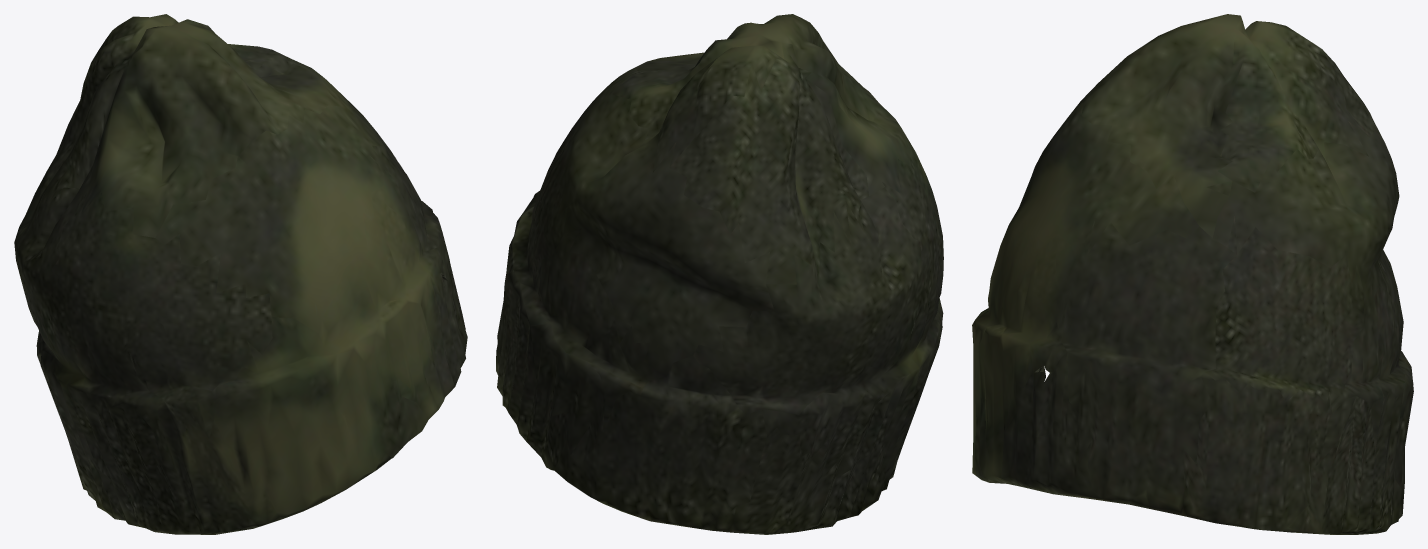
Rendered from beanie.6d1687ce4a.glb.
3 views of the same model, side by side, from view 1: azimuth 30°, elevation 25°; view 2: azimuth 150°, elevation 25°; view 3: azimuth 270°, elevation 25° (orthographic). The views are drawn at different scales.
Parts seen in each view (by area): view 1: beanie; view 2: beanie; view 3: beanie.
Part boxes in pixels (<box>): beanie: <box>14,14,467,534</box>; beanie: <box>496,14,943,534</box>; beanie: <box>972,14,1413,534</box>.
Size of the model in its own units: 0.2132 by 0.24 by 0.1944.
1 material, 1 textured.
